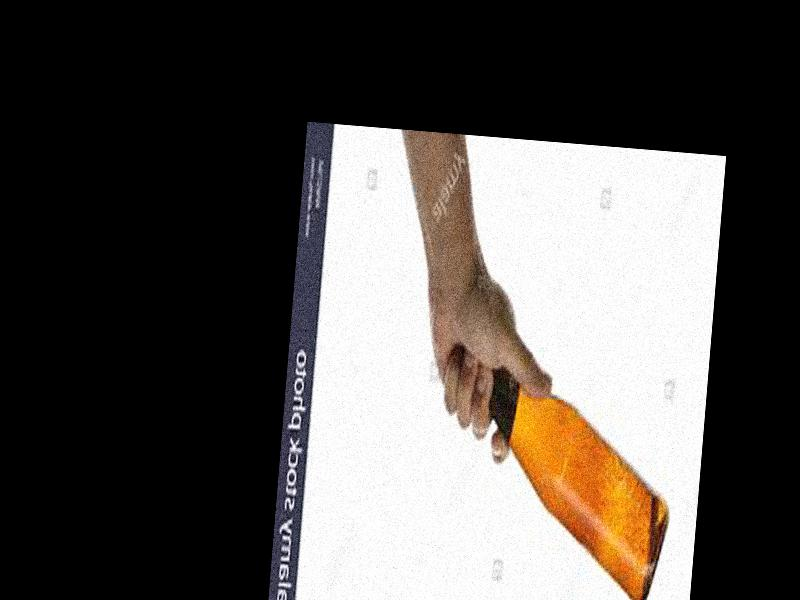Beer: (434, 349, 683, 600)
